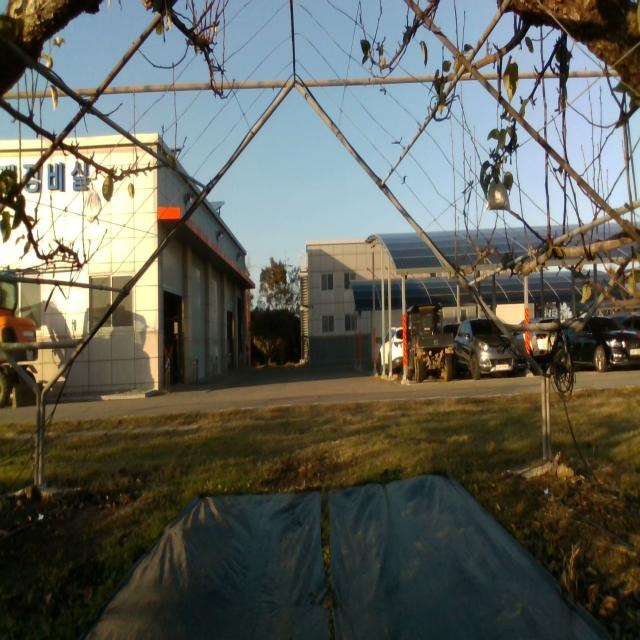pearbags: (484, 178, 512, 216), (84, 186, 102, 224)
